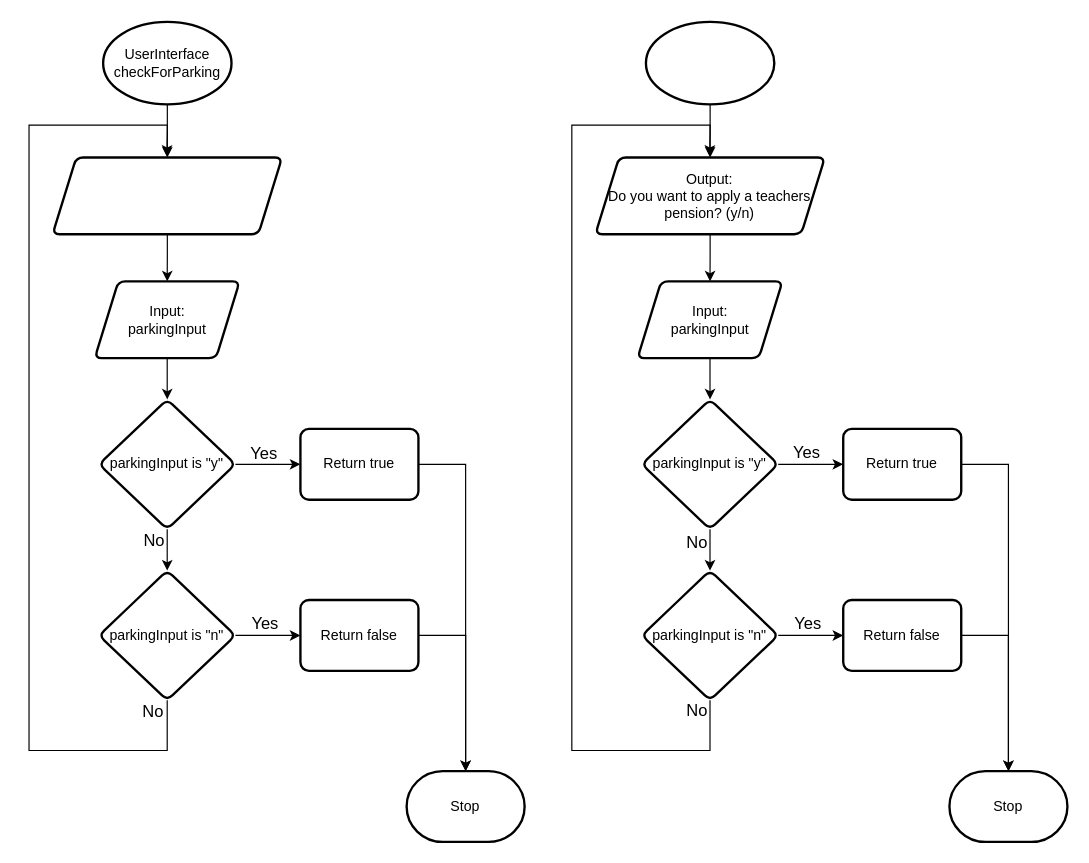
Some shapes in this 1089 by 863 pixel diagram are drawn without their labels. The shapes that lost their labels are listed below. From the top down, each one's centre as x and y in pixels, then its label:
[709,62]: UserInterface checkForPension
[167,195]: Output: Do you want to apply a parking charge? (y/n)
